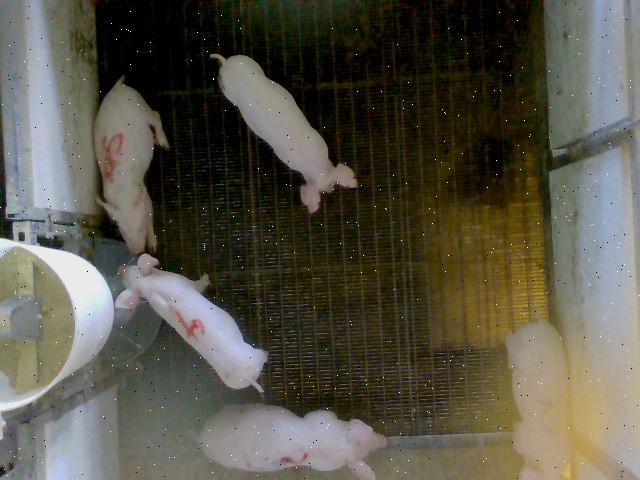pig-2: (506, 319, 571, 479)
pig-3: (198, 405, 386, 479)
pig-4: (115, 254, 268, 389)
pig-5: (94, 76, 169, 253)
